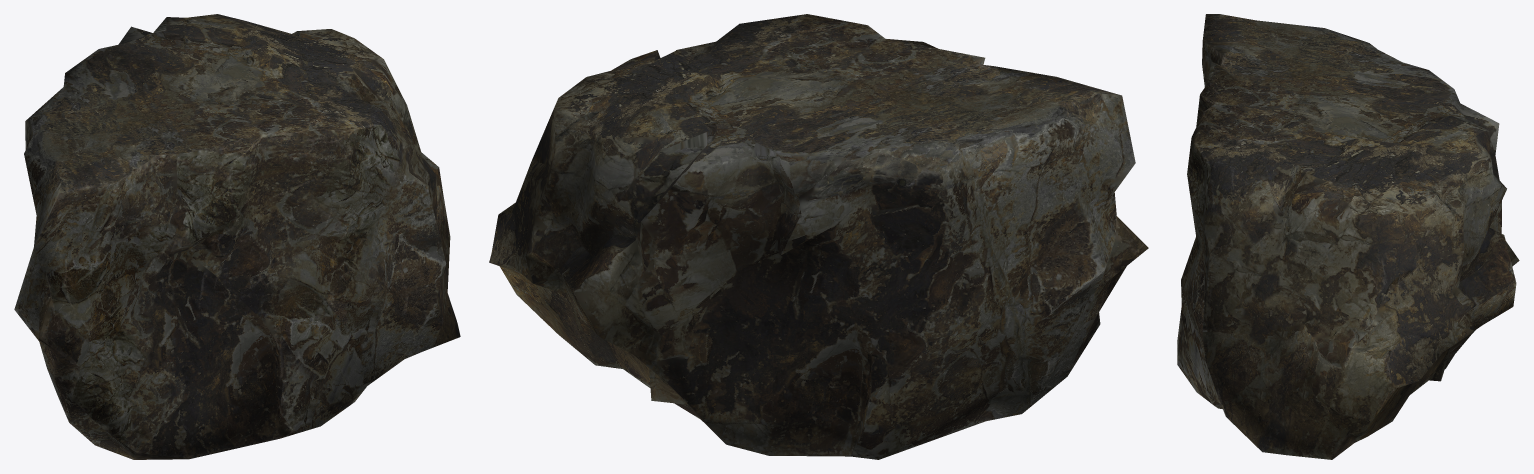
Rendered from Asteroid1.fbx.
The picture shows the model from 3 angles, left to right: view 1: azimuth 30°, elevation 25°; view 2: azimuth 150°, elevation 25°; view 3: azimuth 270°, elevation 25°; orthographic projection. The views are drawn at different scales.
Parts seen in each view (by area): view 1: Aset_nature_rock_M_ukopfbks_LOD5; view 2: Aset_nature_rock_M_ukopfbks_LOD5; view 3: Aset_nature_rock_M_ukopfbks_LOD5.
Part boxes in pixels (x1=…): Aset_nature_rock_M_ukopfbks_LOD5: x1=14, y1=14, x2=460, y2=459; Aset_nature_rock_M_ukopfbks_LOD5: x1=489, y1=14, x2=1148, y2=459; Aset_nature_rock_M_ukopfbks_LOD5: x1=1177, y1=14, x2=1519, y2=459.
Bounding box in the file's own units: 181 × 105 × 120.
